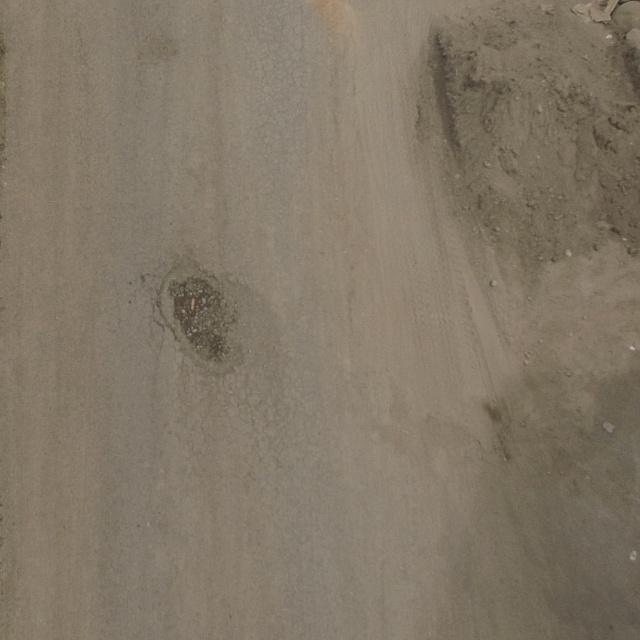BACHE: (161, 265, 246, 373)
PIEL DE COCODRILO: (170, 362, 312, 504), (235, 1, 322, 176)
